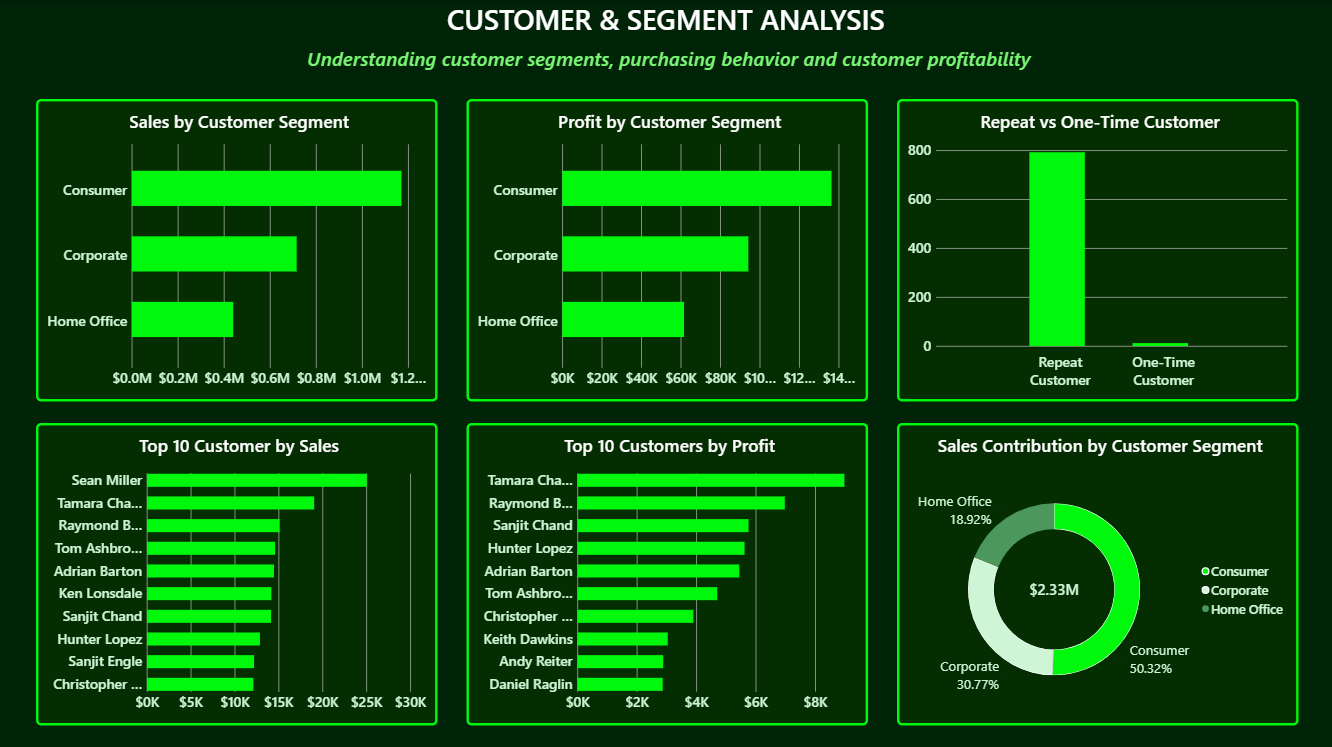

The page's visual inventory and layout, read from the dashboard file:
{"tool":"powerbi","page":{"name":"Customer Analysis","canvas":[2560,1440],"ordinal":2},"visuals":[{"type":"textbox","box":[826.7,0,902.5,85],"z":0},{"type":"textbox","box":[580,86.7,1403.3,56.7],"z":1000},{"type":"clusteredBarChart","title":"Sales by Customer Segment","fields":{"Category":["retail_sales_analytics superstore_clean.Segment"],"Y":["retail_sales_analytics superstore_clean.Total Sales"]},"box":[70,190,770,580],"z":2000},{"type":"clusteredBarChart","title":"Profit by Customer Segment","fields":{"Category":["retail_sales_analytics superstore_clean.Segment"],"Y":["retail_sales_analytics superstore_clean.Total Profit"]},"box":[895,190,770,580],"z":3000},{"type":"clusteredBarChart","title":"Top 10 Customer by Sales","fields":{"Category":["retail_sales_analytics superstore_clean.Customer Name"],"Y":["retail_sales_analytics superstore_clean.Total Sales"]},"box":[70,810,770,580],"z":4000},{"type":"clusteredBarChart","title":"Top 10 Customers by Profit","fields":{"Category":["retail_sales_analytics superstore_clean.Customer Name"],"Y":["retail_sales_analytics superstore_clean.Total Profit"]},"box":[895,810,770,580],"z":5000},{"type":"clusteredColumnChart","title":"Repeat vs One-Time Customer","fields":{"Category":["retail_sales_analytics superstore_clean.Customer Type"],"Y":["Count(retail_sales_analytics superstore_clean.Customer ID)"]},"box":[1720,190,770,580],"z":6000},{"type":"donutChart","title":"Sales Contribution by Customer Segment","fields":{"Category":["retail_sales_analytics superstore_clean.Segment"],"Y":["retail_sales_analytics superstore_clean.Total Sales"]},"box":[1720,810,770,580],"z":7000}]}

Visuals, with their boxes in screenshot pixels (x1, y1, x2, y2), scaled from the page's 2560x1440 canvas onto the 1332x747 screenshot:
textbox: crop(430, 0, 900, 44)
textbox: crop(302, 45, 1032, 74)
"Sales by Customer Segment" clusteredBarChart: crop(36, 99, 437, 399)
"Profit by Customer Segment" clusteredBarChart: crop(466, 99, 866, 399)
"Top 10 Customer by Sales" clusteredBarChart: crop(36, 420, 437, 721)
"Top 10 Customers by Profit" clusteredBarChart: crop(466, 420, 866, 721)
"Repeat vs One-Time Customer" clusteredColumnChart: crop(895, 99, 1296, 399)
"Sales Contribution by Customer Segment" donutChart: crop(895, 420, 1296, 721)
